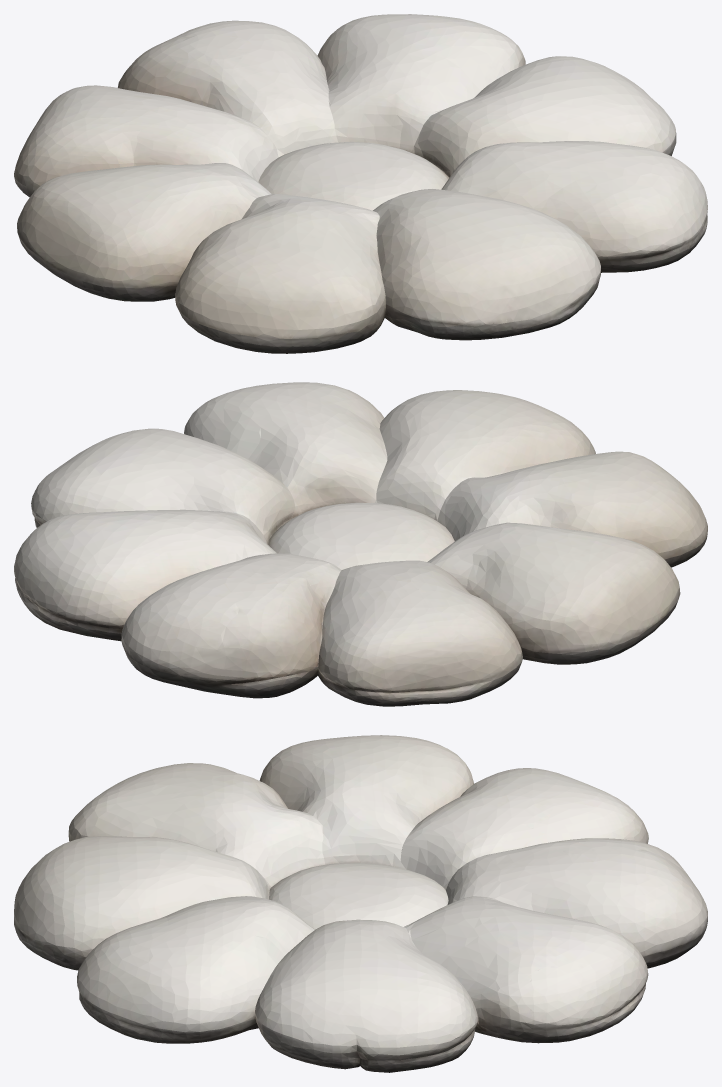
Rendered from ast_9d3dc36f80d6.glb.
The picture shows the model from 3 angles, top to bottom: view 1: azimuth 30°, elevation 25°; view 2: azimuth 150°, elevation 25°; view 3: azimuth 270°, elevation 25°; orthographic projection. The views are drawn at different scales.
Parts seen in each view (by area): view 1: geometry_0; view 2: geometry_0; view 3: geometry_0.
Boxes of the visible parts, x1,y1,x2,y2 form: geometry_0: (14, 14, 707, 353); geometry_0: (14, 382, 707, 706); geometry_0: (14, 735, 707, 1072).
Bounding box in the file's own units: 0.9982 × 0.1265 × 1.
1 material, 1 textured.
